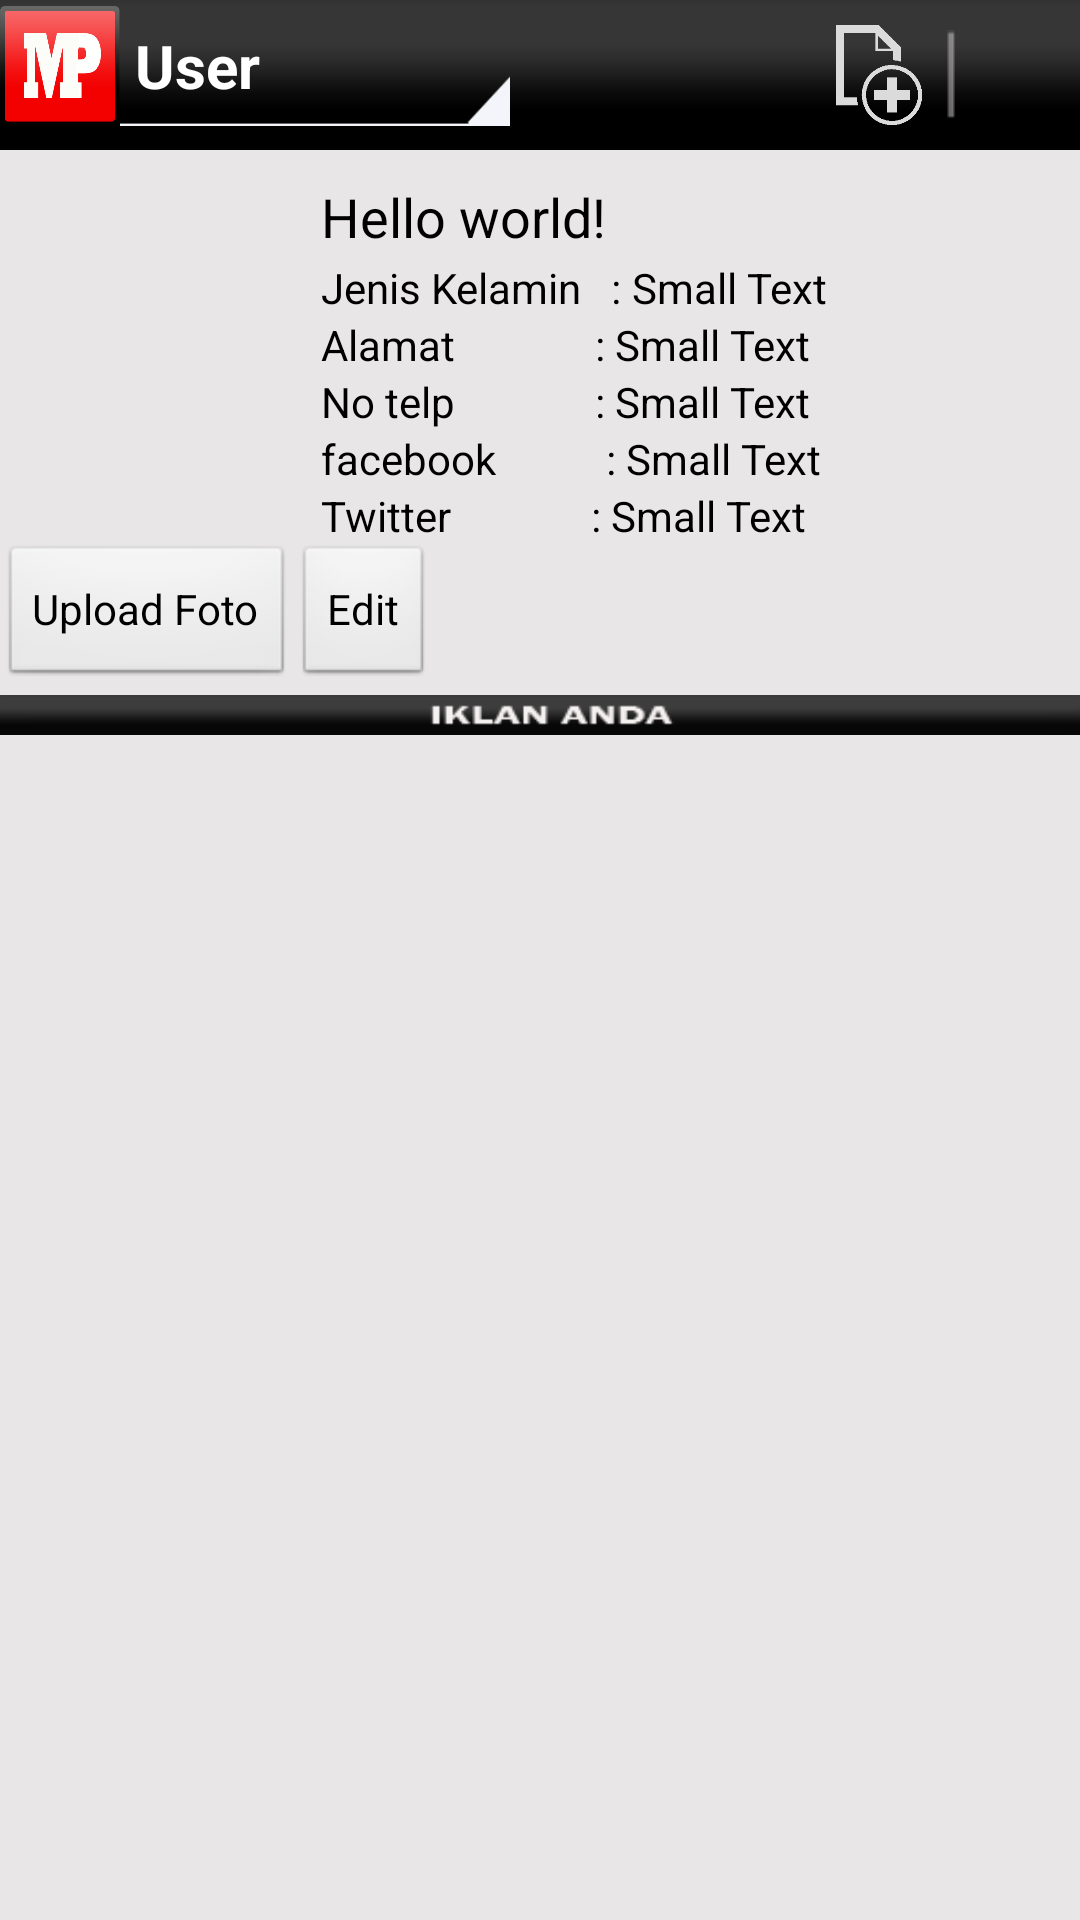

Point at icon controls on the screen. Image size 1080w x 1920h, points as (x,y).
add: (879,75)
